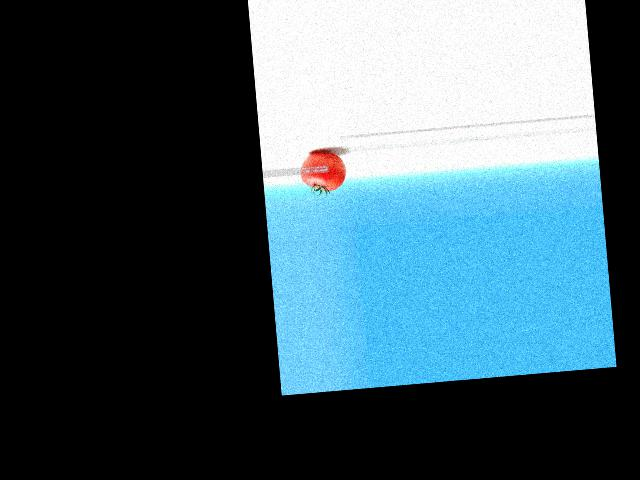tomato: (298, 150, 346, 193)
